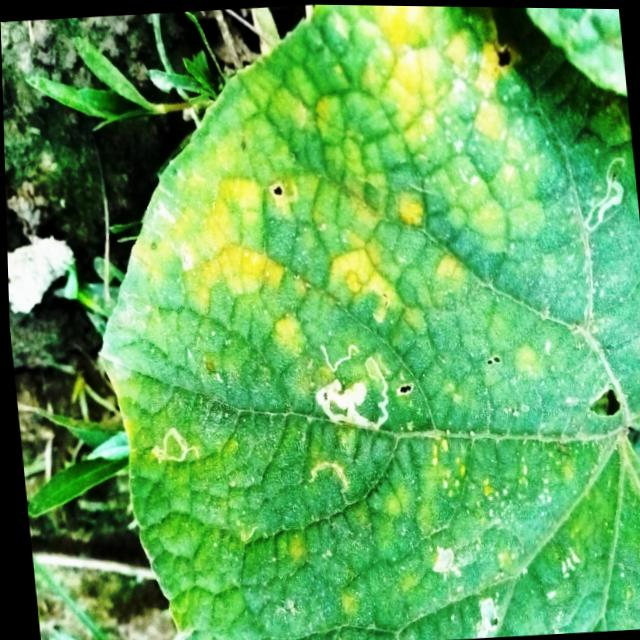Downy-Mildew: (98, 4, 640, 640)
